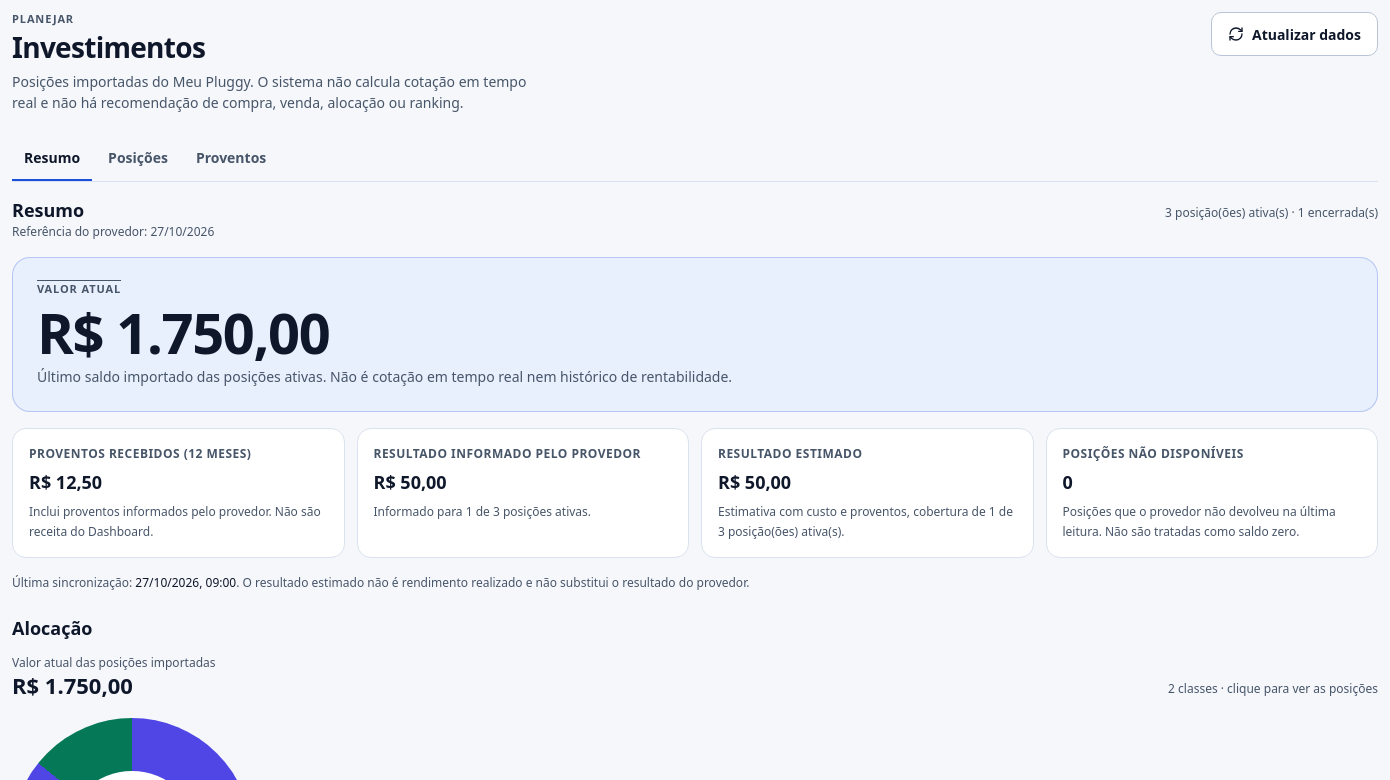
Test: dashboard de investimentos › mostra proventos do provedor por mês e por ativo
Expected: the heading "Investimentos" is shown, [12, 28, 205, 66]
Click the tab "Proventos": (231, 159) [184, 137, 278, 181]
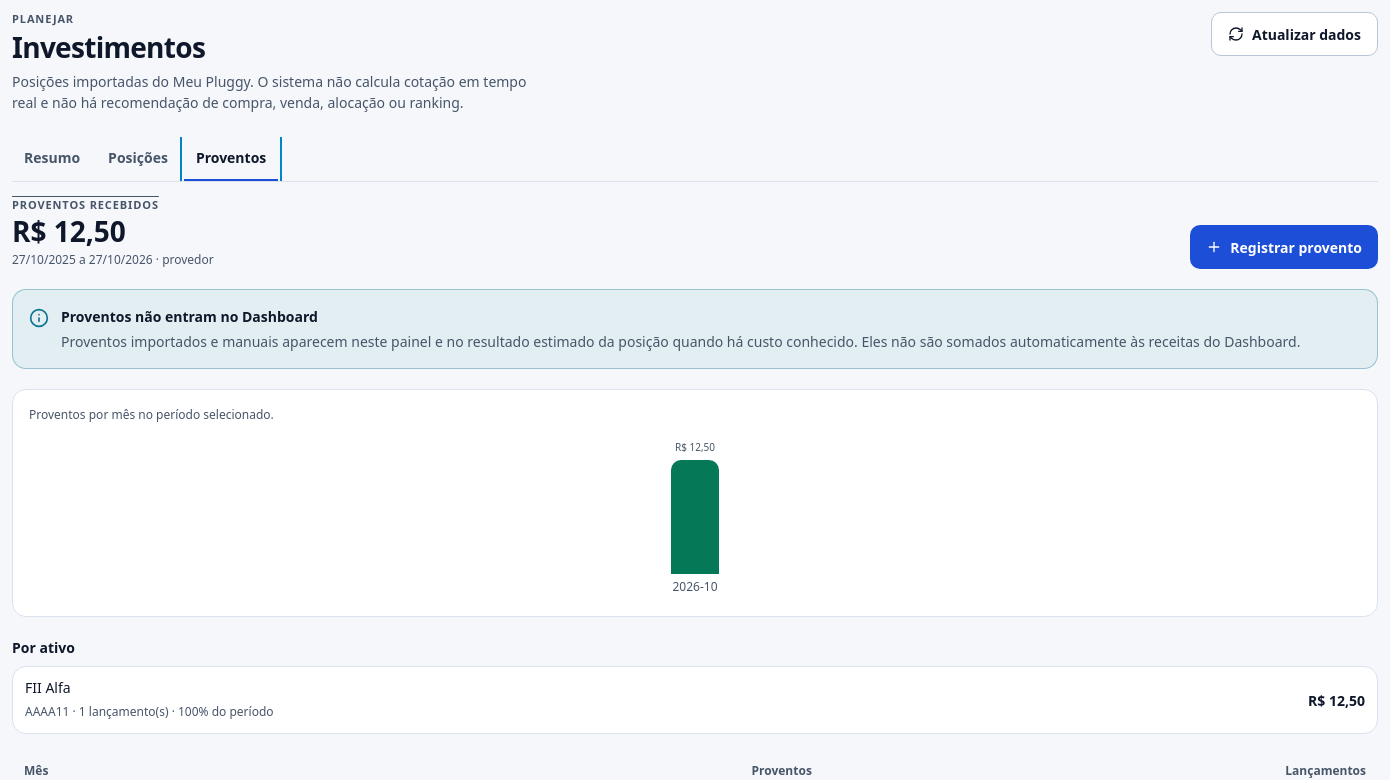
Result: the text "R$ 12,50" below "Proventos recebidos" is shown at [12, 212, 126, 250]
Result: the text "2026-10" is shown at [672, 578, 718, 596]
Result: the picture named "Proventos mensais" is shown at [671, 440, 719, 595]
